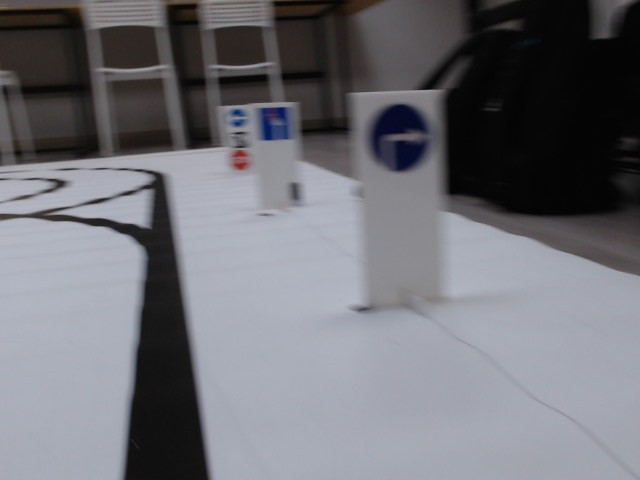Right: (365, 101, 436, 173)
Stop: (232, 149, 250, 169)
priority_movement: (257, 105, 294, 142)
